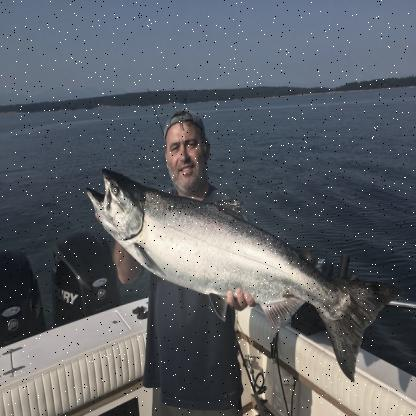fish: (83, 166, 405, 382)
